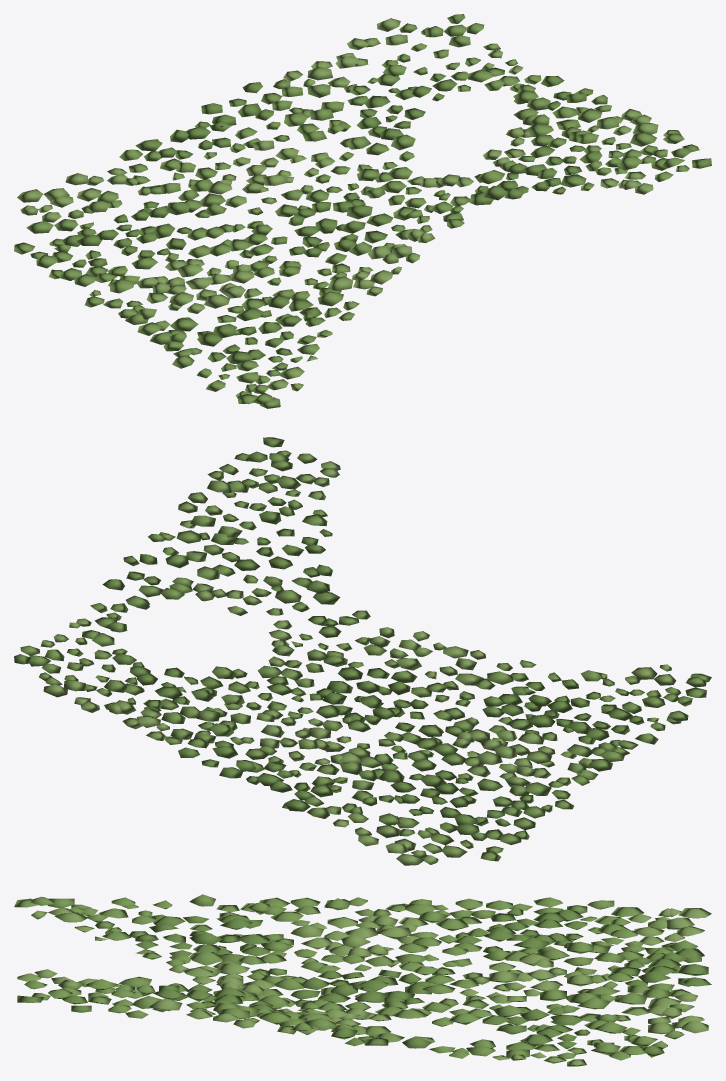
Rendered from canopy-1-5-5.glb.
The picture shows the model from 3 angles, top to bottom: view 1: azimuth 30°, elevation 25°; view 2: azimuth 150°, elevation 25°; view 3: azimuth 270°, elevation 25°; orthographic projection. The views are drawn at different scales.
Bounding box in the file's own units: 515 × 152 × 518.
Materials: 1 (1 with a texture image).
